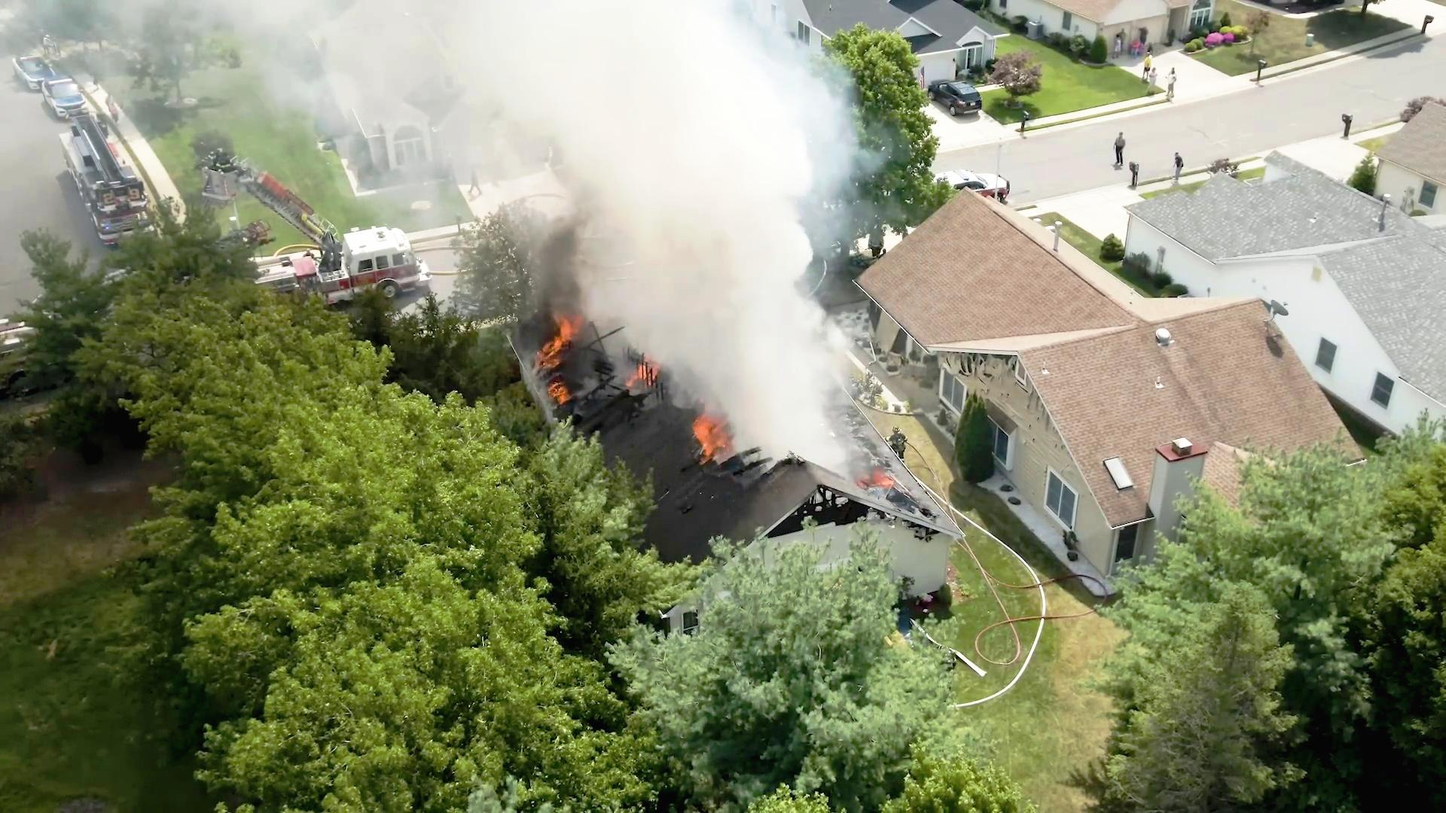smoke: (468, 0, 810, 192)
